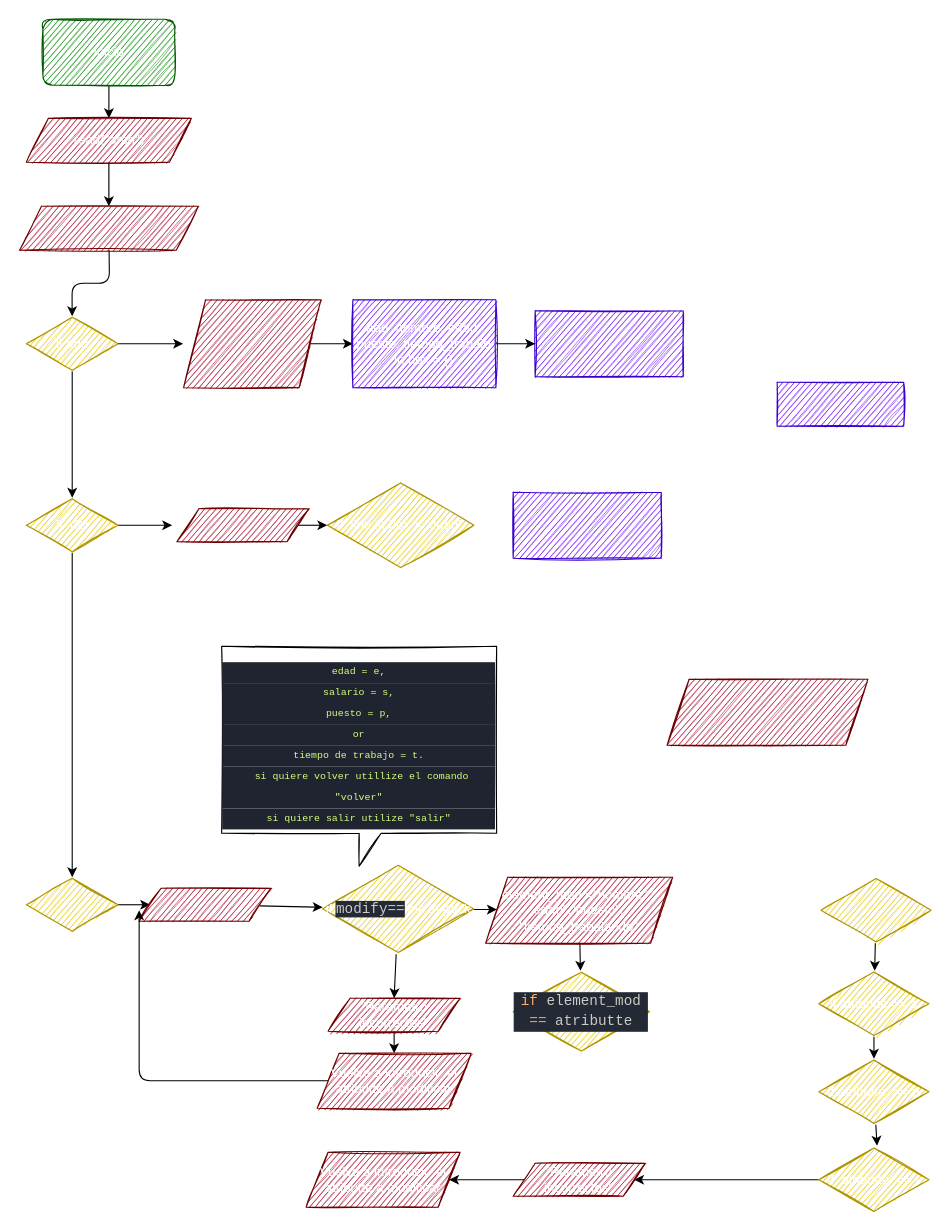
This 950x1232 diagram has some shape labels left out. Here are the shapes that lost their labels. From the top down, the centre of each, then its label:
(108,227): x = imput add, del, mod
(251,343): nombre edad puesto tiempo de trabajo
(608,343): pack[nombre] = atributte_N
(840,403): Line in box = {}
(242,525): delete = "juan"
(767,711): write in arch
(71,904): if mod
(204,904): modify = "juan"
(875,909): if atributte == e
